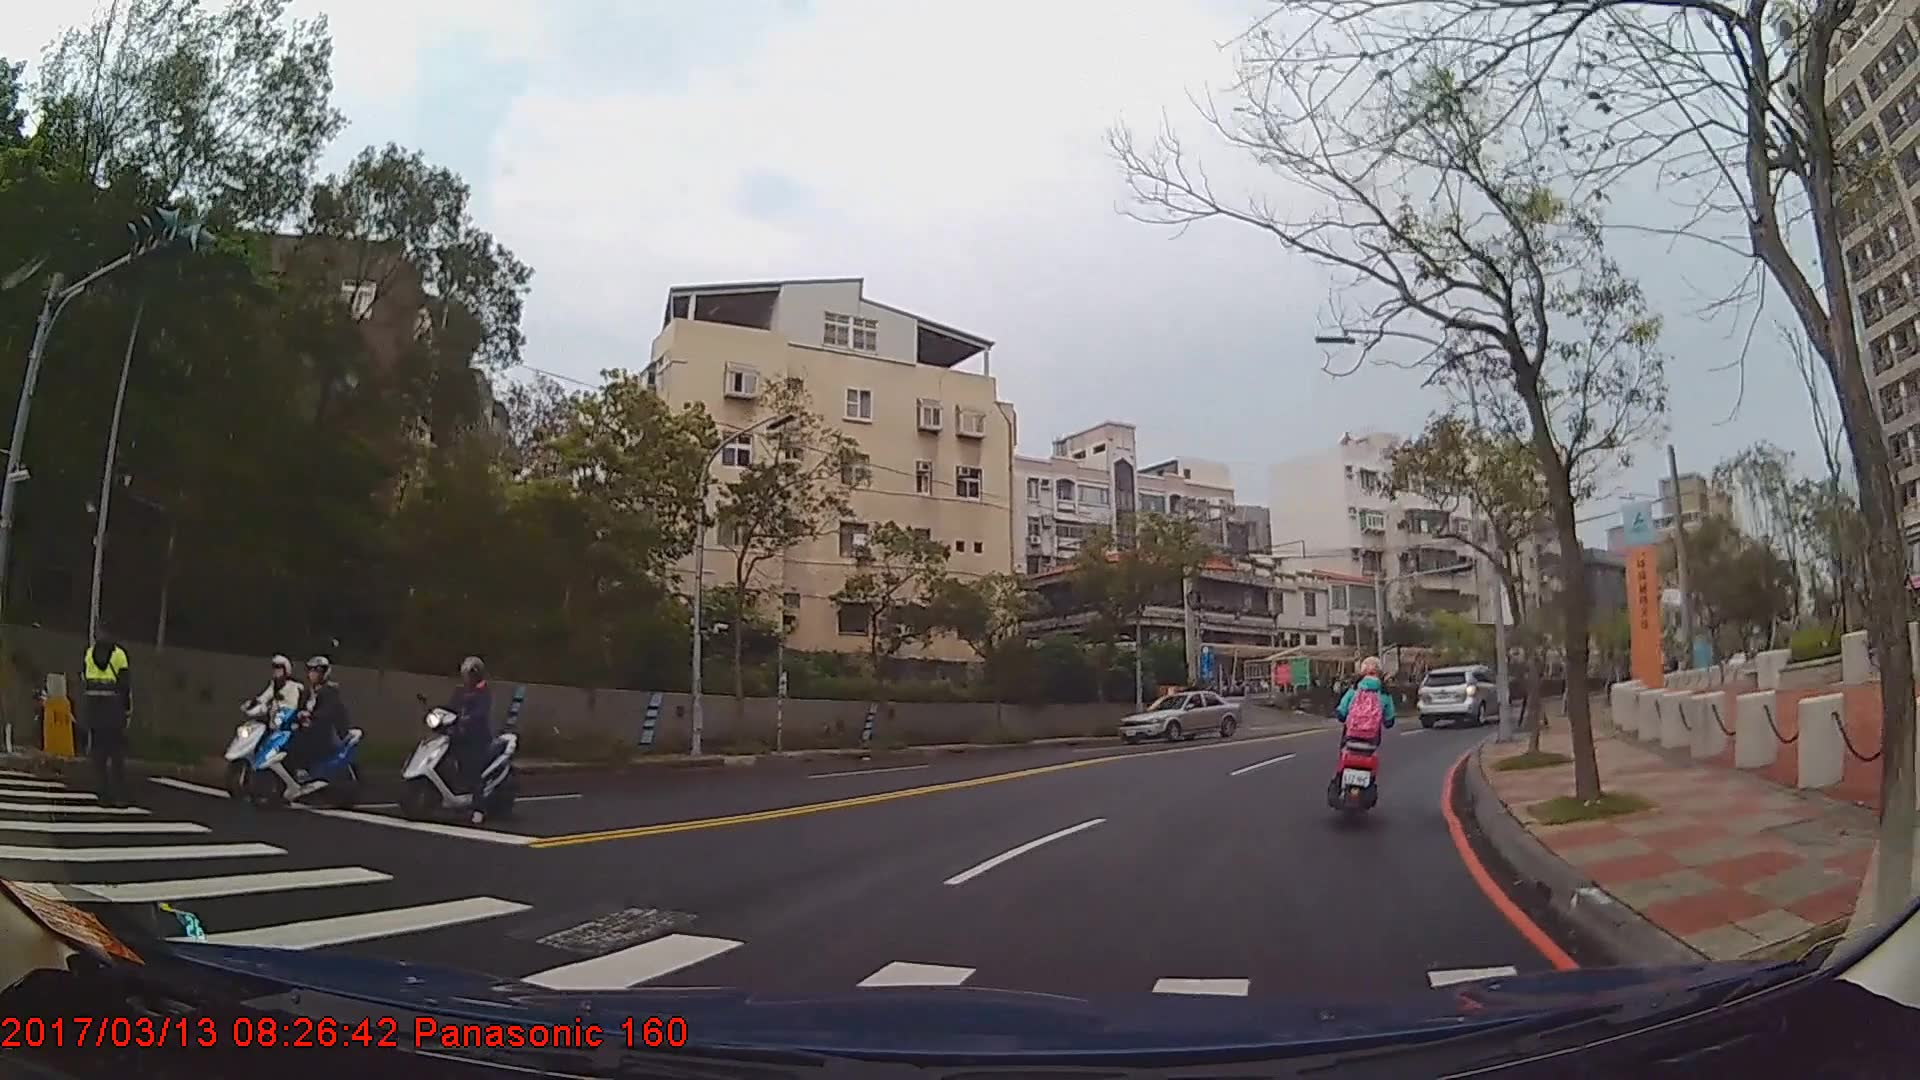pedestrian: (78, 617, 139, 809)
rider: (393, 660, 519, 830), (258, 655, 355, 804), (228, 656, 322, 795), (1331, 662, 1396, 814)
vehicle: (1114, 689, 1240, 747), (1414, 662, 1512, 725)
